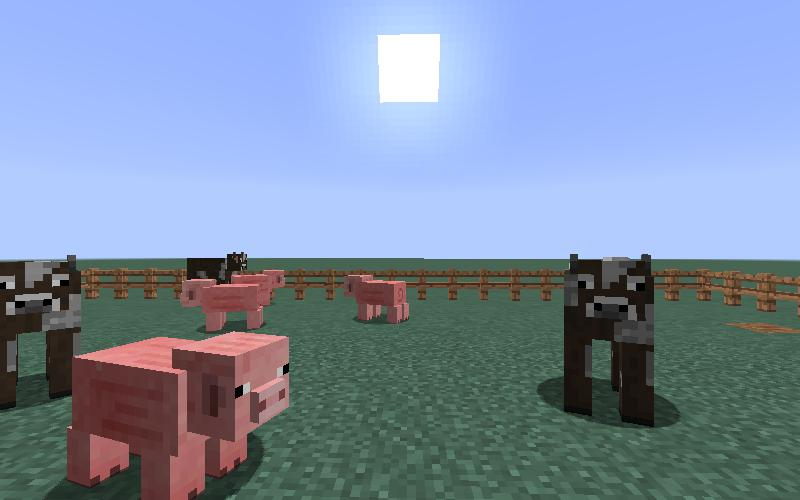cow: (557, 247, 660, 432), (1, 251, 84, 414), (185, 251, 249, 279)
pig: (63, 324, 293, 500), (175, 277, 269, 337), (341, 272, 416, 327)
